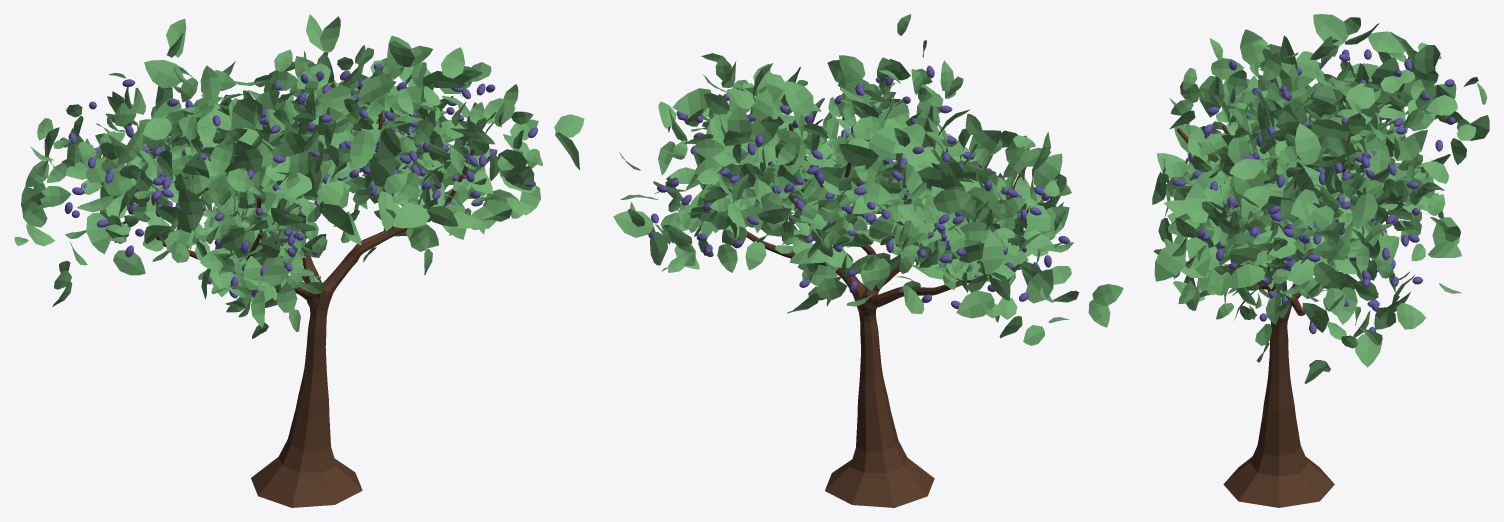
The model's file is mod_BG_prunierTreeMerge.fbx.
The picture shows the model from 3 angles, left to right: view 1: azimuth 30°, elevation 25°; view 2: azimuth 150°, elevation 25°; view 3: azimuth 270°, elevation 25°; orthographic projection.
Parts seen in each view (by area): view 1: Tronc; view 2: Tronc; view 3: Tronc.
Boxes of the visible parts, <box> form: Tronc: <box>14,14,584,507</box>; Tronc: <box>613,14,1123,507</box>; Tronc: <box>1152,14,1489,507</box>.
Size of the model in its own units: 249 by 216 by 147.
